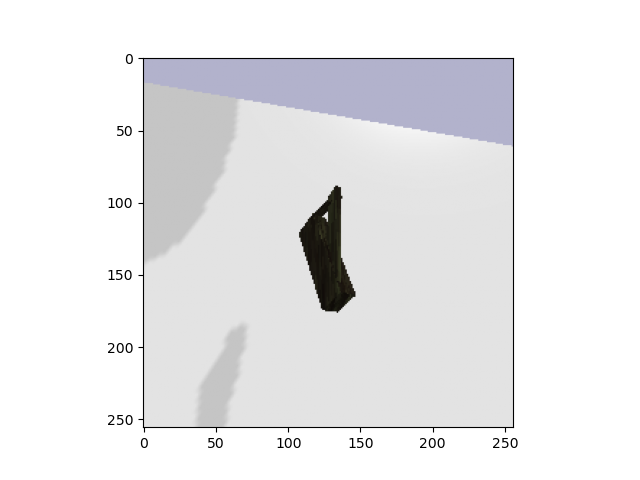v249b387_109: (288, 183, 372, 323)
